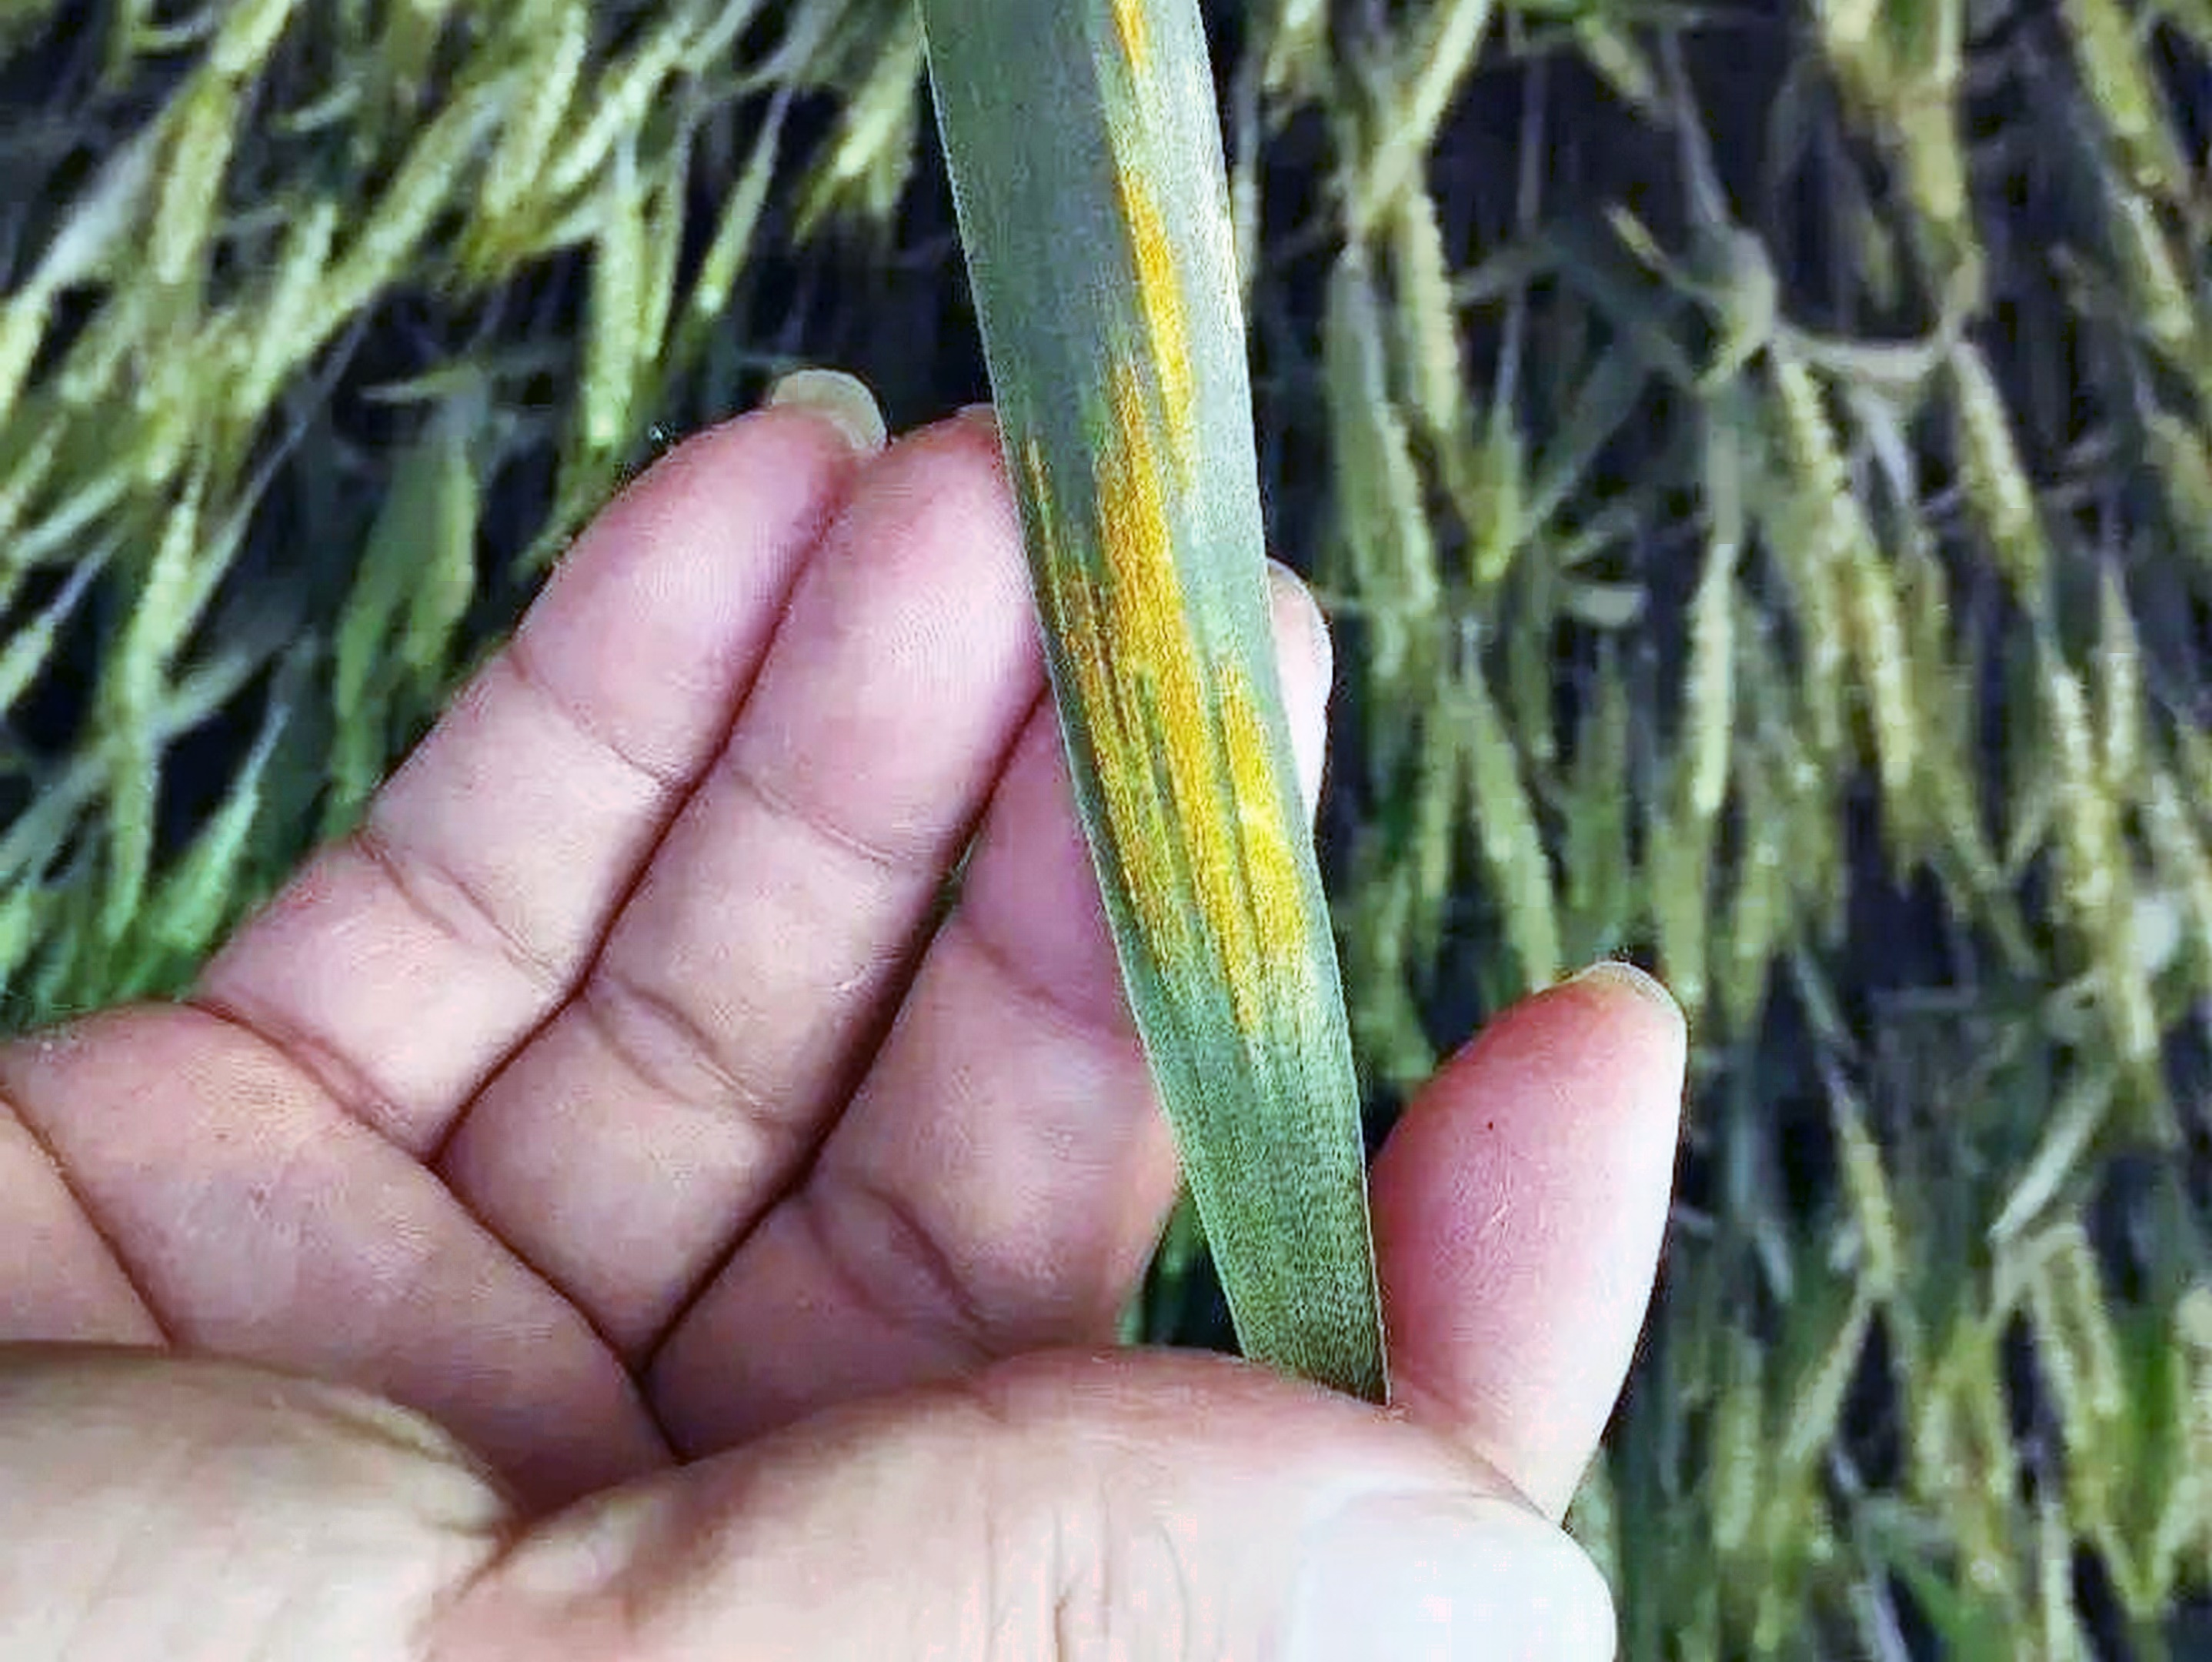Leaf Rust: (993, 161, 1353, 1116)
